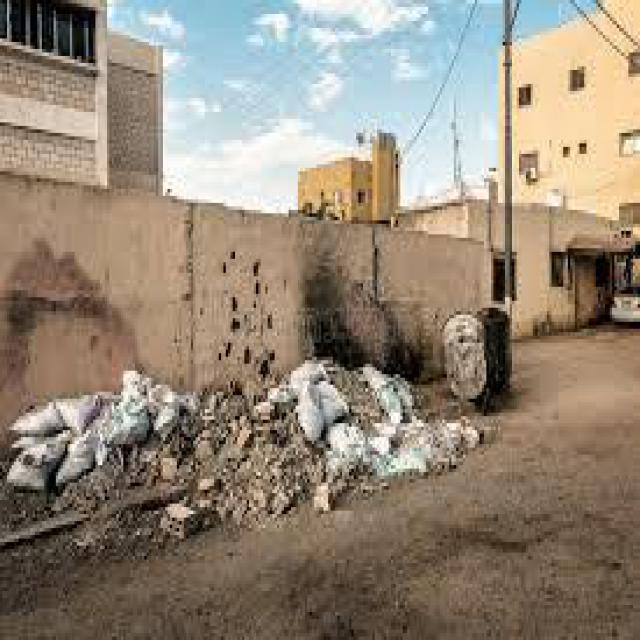garbage: (14, 381, 451, 490)
